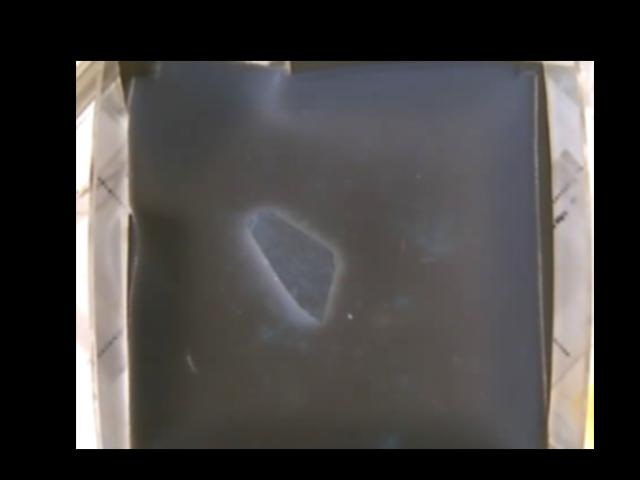China: (249, 208, 338, 317)
